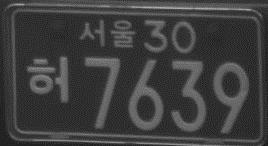0: (169, 20, 197, 53)
3: (170, 59, 207, 134), (143, 19, 168, 53)
6: (127, 58, 164, 131)
7: (82, 55, 122, 131)
9: (212, 60, 251, 134)
서울_O: (78, 18, 137, 49)
허: (26, 54, 71, 104)
